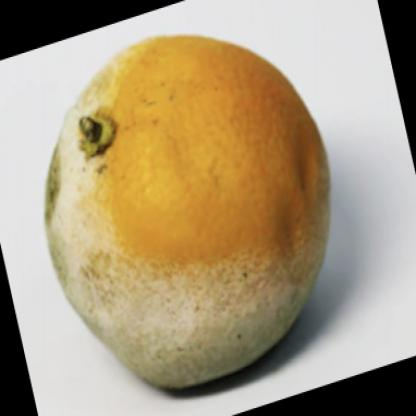rotten_orange: (48, 29, 335, 386)
